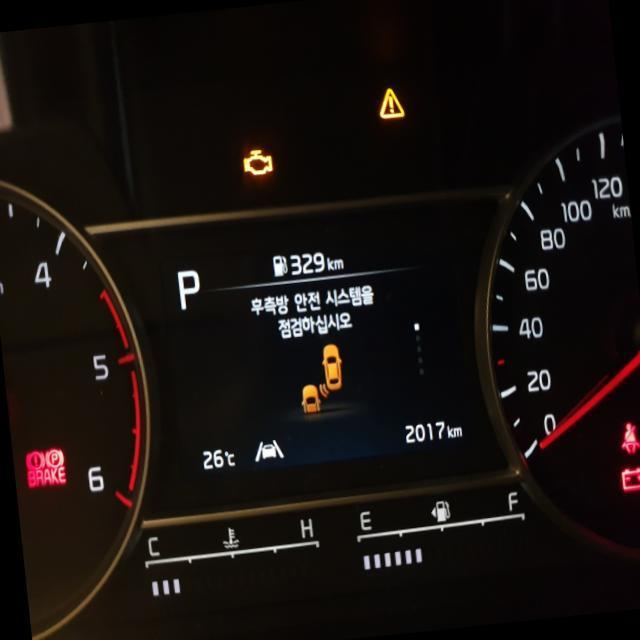Central Warning lamp: (376, 85, 404, 120)
LaneCenteringOff: (250, 436, 284, 461)
